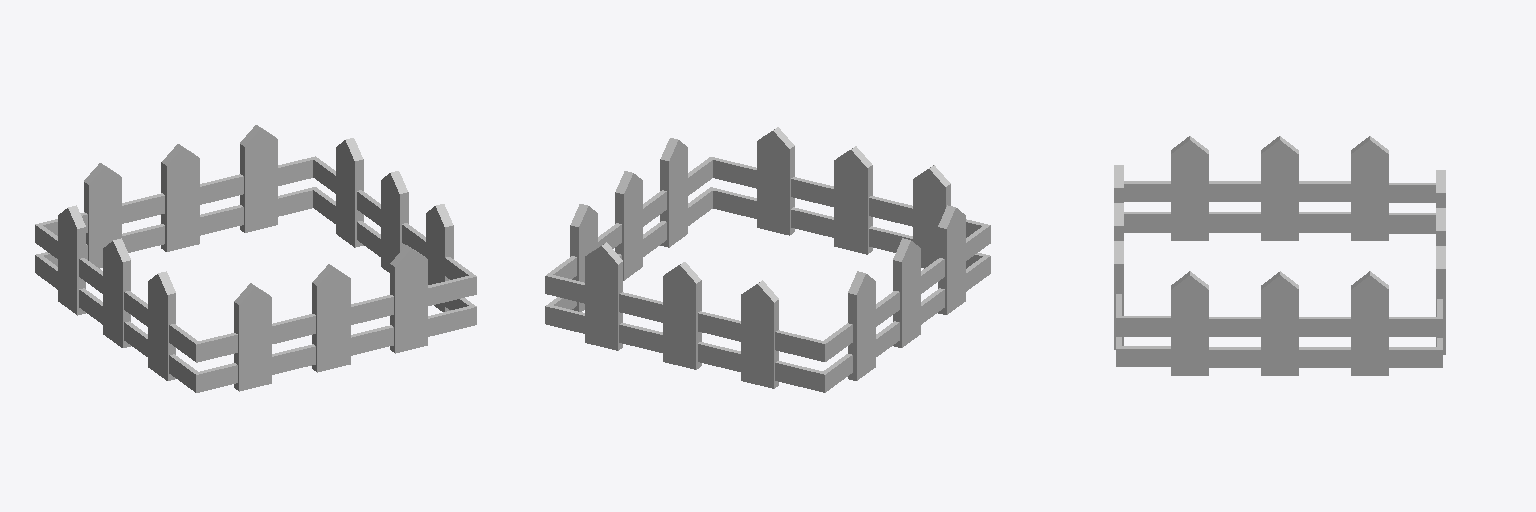
File: treeGate.obj
3 views of the same model, side by side, from view 1: azimuth 30°, elevation 25°; view 2: azimuth 150°, elevation 25°; view 3: azimuth 270°, elevation 25° (orthographic).
Parts seen in each view (by area): view 1: FENCE; view 2: FENCE; view 3: FENCE.
Part boxes in pixels (x1,y1,x2,y2): FENCE: (35, 125, 476, 392); FENCE: (545, 127, 990, 392); FENCE: (1114, 136, 1445, 375).
Bounding box in the file's own units: 2.53 × 0.8531 × 2.54.